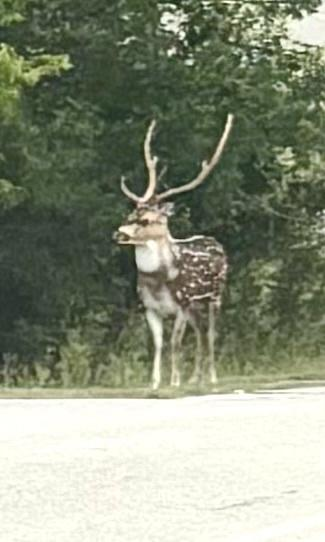Deer: (113, 115, 230, 389)
